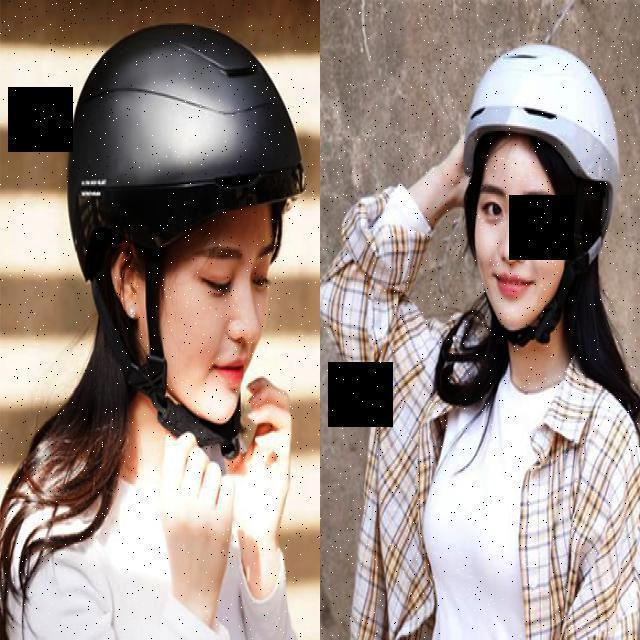helmet: (68, 19, 308, 466), (464, 44, 624, 352)
